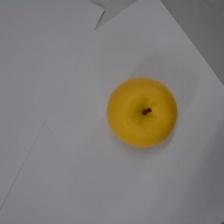yellow: (106, 76, 177, 148)
